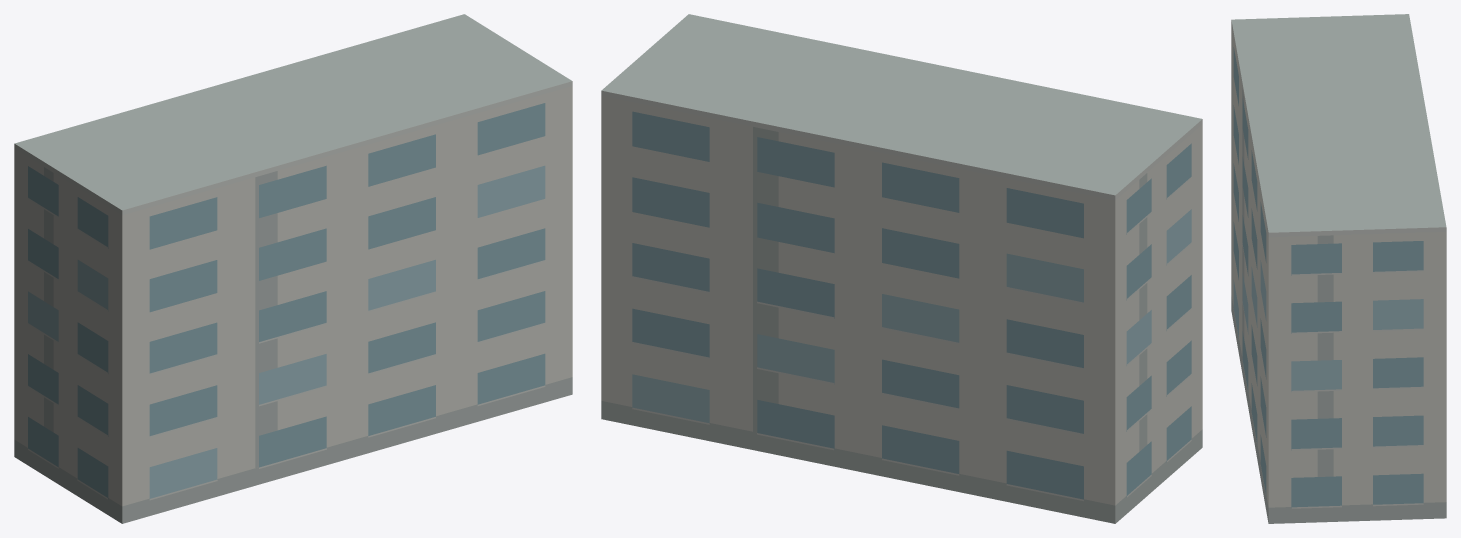
The model's file is residential-c0b961a7-b96a-4499-a71b-d5c557a780c9.glb.
3 views of the same model, side by side, from view 1: azimuth 30°, elevation 25°; view 2: azimuth 150°, elevation 25°; view 3: azimuth 270°, elevation 25° (orthographic). The views are drawn at different scales.
Parts seen in each view (by area): view 1: residential-c0b961a7-b96a-4499-a71b-d5c557a780c9.tmp; view 2: residential-c0b961a7-b96a-4499-a71b-d5c557a780c9.tmp; view 3: residential-c0b961a7-b96a-4499-a71b-d5c557a780c9.tmp.
Part boxes in pixels (x1,y1,x2,y2): residential-c0b961a7-b96a-4499-a71b-d5c557a780c9.tmp: [14, 14, 572, 523]; residential-c0b961a7-b96a-4499-a71b-d5c557a780c9.tmp: [601, 14, 1202, 523]; residential-c0b961a7-b96a-4499-a71b-d5c557a780c9.tmp: [1231, 14, 1446, 523].
Size of the model in its own units: 24.67 by 15.3 by 10.25.
